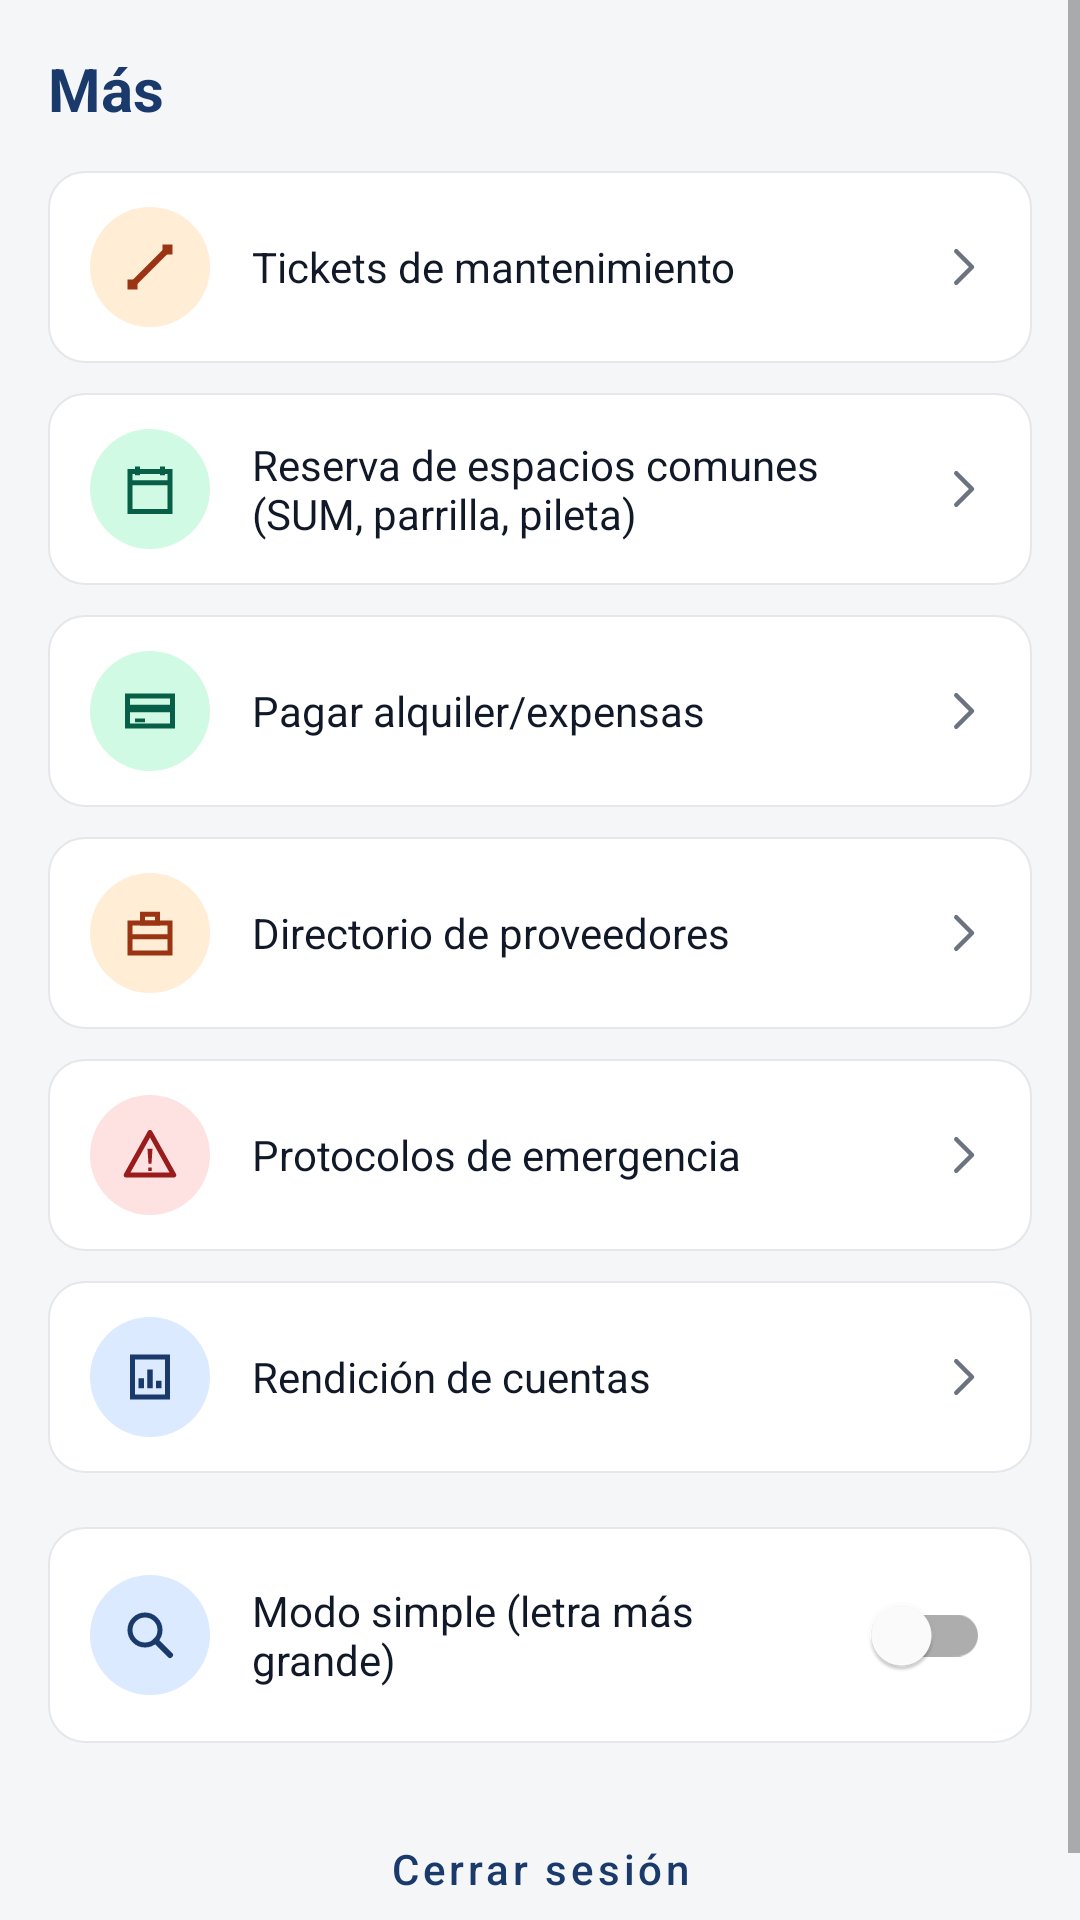

Icons on this 1080 × 1920 Android screen, each with its box as bbox=(x1, y1, x2, y2):
alert: bbox=(123, 1130, 177, 1178)
briefcase: bbox=(127, 911, 173, 956)
calendar: bbox=(127, 466, 173, 514)
card: bbox=(125, 693, 175, 729)
report: bbox=(130, 1354, 170, 1400)
